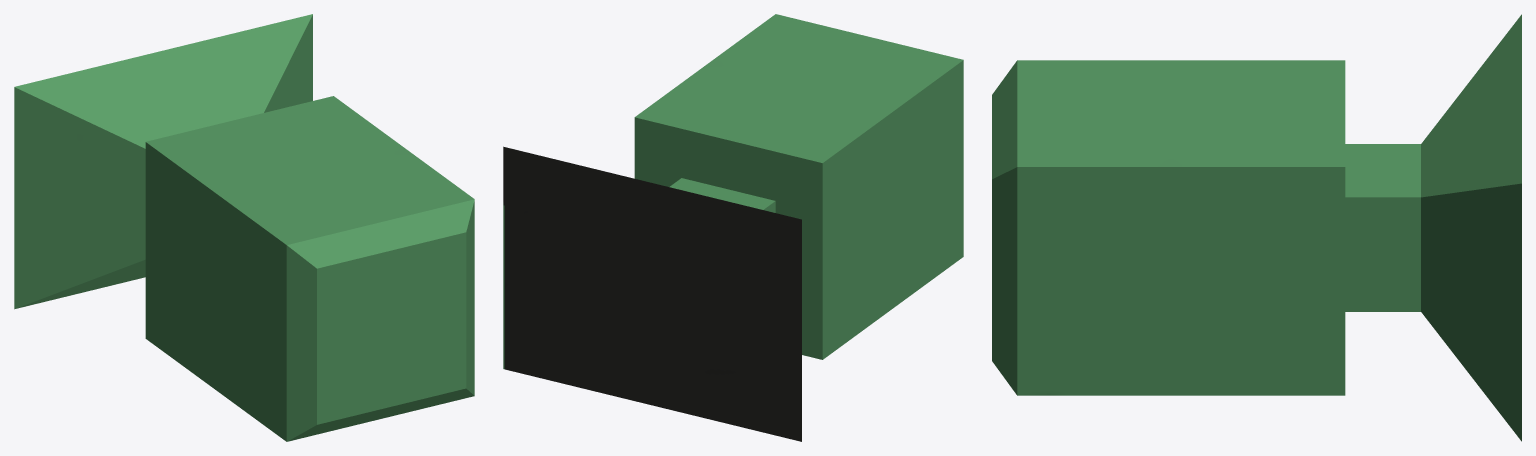
Rendered from DevCameraRail.glb.
The picture shows the model from 3 angles, left to right: view 1: azimuth 30°, elevation 25°; view 2: azimuth 150°, elevation 25°; view 3: azimuth 270°, elevation 25°; orthographic projection. The views are drawn at different scales.
Visible parts, largest first — view 1: Cube; view 2: Cube; view 3: Cube.
Boxes of the visible parts, box(x1,y1,x2,y2) form: Cube: box(14, 14, 474, 441); Cube: box(503, 14, 963, 441); Cube: box(992, 14, 1521, 441).
Size of the model in its own units: 1.59 by 1.13 by 2.1.
1 material, 1 textured.
